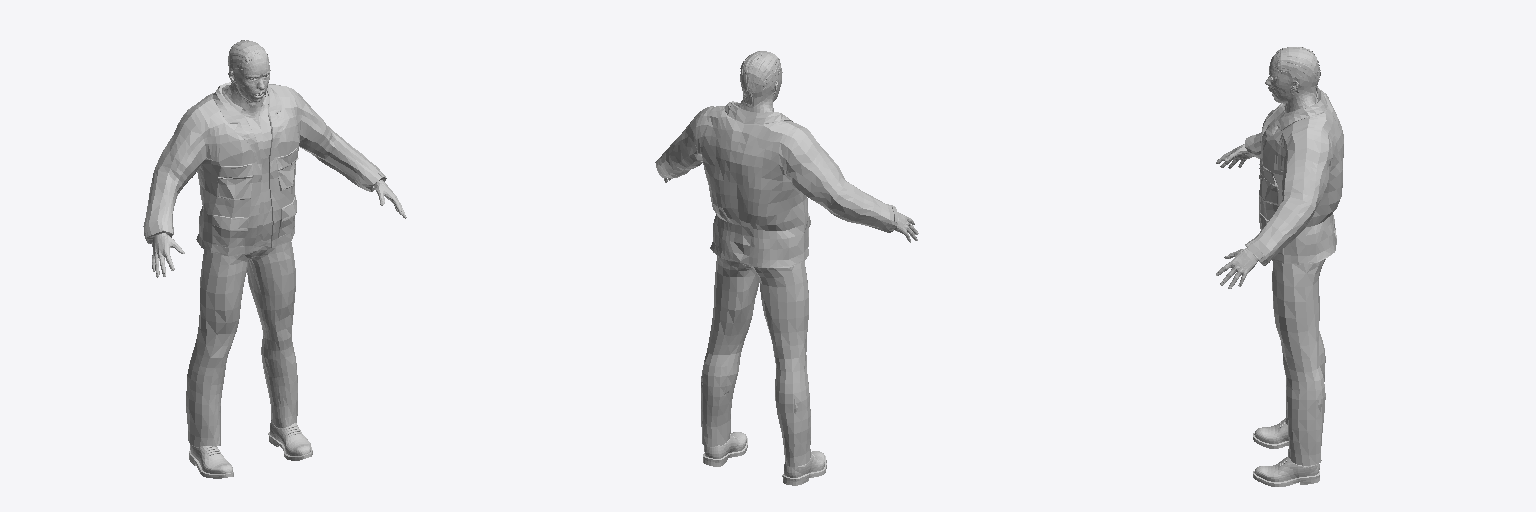
The picture shows the model from 3 angles: view 1: azimuth 30°, elevation 25°; view 2: azimuth 150°, elevation 25°; view 3: azimuth 270°, elevation 25°; orthographic projection.
Parts seen in each view (by area): view 1: Ml1:Male_casualsuit05, Ml1:Body, Ml1:Shoes03, Ml1:Short04; view 2: Ml1:Male_casualsuit05, Ml1:Short04, Ml1:Shoes03, Ml1:Body; view 3: Ml1:Male_casualsuit05, Ml1:Body, Ml1:Shoes03, Ml1:Short04.
Boxes of the visible parts, x1,y1,x2,y2 form: Ml1:Male_casualsuit05: [143, 82, 386, 446]; Ml1:Body: [152, 61, 406, 277]; Ml1:Shoes03: [189, 420, 312, 478]; Ml1:Short04: [228, 40, 269, 85]; Ml1:Male_casualsuit05: [655, 101, 898, 466]; Ml1:Short04: [740, 51, 781, 107]; Ml1:Shoes03: [703, 432, 826, 485]; Ml1:Body: [664, 72, 918, 242]; Ml1:Male_casualsuit05: [1245, 87, 1343, 465]; Ml1:Body: [1216, 59, 1316, 288]; Ml1:Shoes03: [1253, 418, 1319, 486]; Ml1:Short04: [1272, 47, 1320, 95].
Size of the model in its own units: 1.31 by 2.08 by 0.5843.